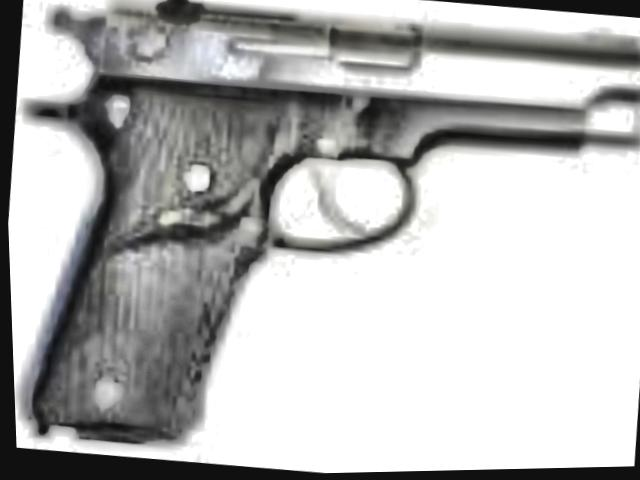pistol: (3, 0, 640, 480)
